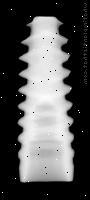Nobel Biocare: (13, 14, 75, 183)
